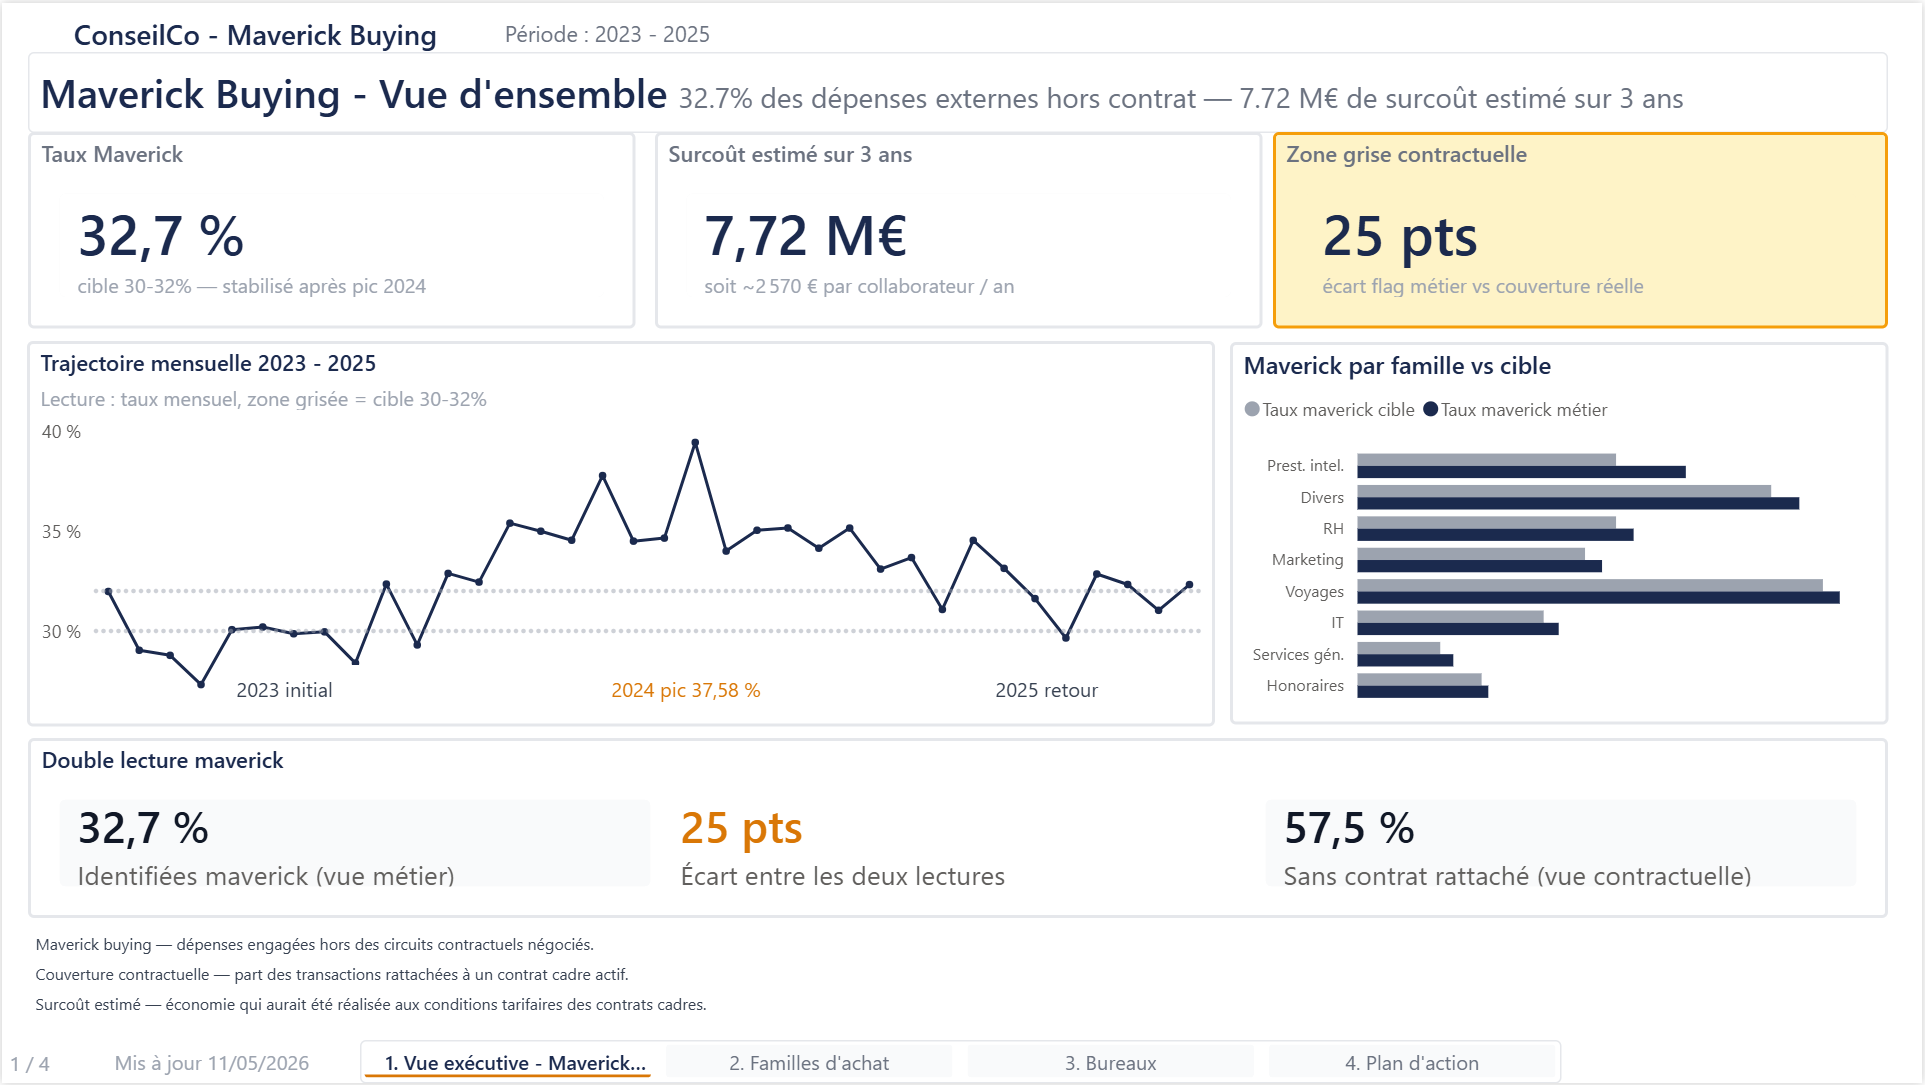

Layout of this report page (visuals, bound fields, positions):
{"tool":"powerbi","page":{"name":"1. Vue exécutive - Maverick Buying","canvas":[1280,720],"ordinal":0},"visuals":[{"type":"lineChart","title":"Trajectoire mensuelle 2023 - 2025","fields":{"Category":["Calendrier.Année-Mois"],"Y":["Mesures.Taux maverick métier"]},"box":[20,226.2,791.9,256.9],"z":0},{"type":"textbox","box":[20,0,303.8,42.5],"z":1000},{"type":"textbox","box":[323.5,0,160.7,42.9],"z":2000},{"type":"textbox","box":[0,690.8,69.5,29.6],"z":3000},{"type":"textbox","box":[70,695.3,156.5,24.7],"z":4000},{"type":"pageNavigator","box":[238.8,691.2,801.2,28.8],"z":5000},{"type":"textbox","box":[17.5,32.5,1240,53.8],"z":6000},{"type":"cardVisual","title":"Taux Maverick","fields":{"Data":["Mesures.Taux maverick métier"]},"box":[17.5,86.2,405,131.2],"z":7000},{"type":"cardVisual","title":"Surcoût estimé sur 3 ans ","fields":{"Data":["Mesures.Surcoût maverick estimé lib"]},"box":[435,86.2,405,131.2],"z":8000},{"type":"cardVisual","title":"Zone grise contractuelle","fields":{"Data":["Mesures.Zone grise pts (affichage)"]},"box":[847.5,86.2,410,131.2],"z":9000},{"type":"textbox","box":[151.2,441.2,92.5,30],"z":10000},{"type":"textbox","box":[401.2,441.2,120,30],"z":11000},{"type":"textbox","box":[657.5,441.2,95,30],"z":12000},{"type":"clusteredBarChart","title":"Maverick par famille vs cible","fields":{"Category":["Catégories.Famille libellé court"],"Y":["Mesures.Taux maverick cible","Mesures.Taux maverick métier"]},"box":[818.8,226.2,438.8,255],"z":13000},{"type":"cardVisual","title":"Double lecture maverick","fields":{"Data":["Mesures.Taux maverick métier","Mesures.Zone grise pts (affichage)","Mesures.Taux non-couverture contractuelle"]},"box":[17.5,490,1240,120],"z":14000},{"type":"textbox","box":[17.5,610,1240,72.5],"z":15000}]}

Visuals, with their boxes in screenshot pixels (x1, y1, x2, y2), scaled from the page's 1280x720 canvas onto the 1925x1085 screenshot:
"Trajectoire mensuelle 2023 - 2025" lineChart: 30 341 1221 728
textbox: 30 0 487 64
textbox: 487 0 728 65
textbox: 0 1041 105 1084
textbox: 105 1048 341 1084
pageNavigator: 359 1042 1564 1084
textbox: 26 49 1891 130
"Taux Maverick" cardVisual: 26 130 635 328
"Surcoût estimé sur 3 ans " cardVisual: 654 130 1263 328
"Zone grise contractuelle" cardVisual: 1275 130 1891 328
textbox: 227 665 367 710
textbox: 603 665 784 710
textbox: 989 665 1132 710
"Maverick par famille vs cible" clusteredBarChart: 1231 341 1891 725
"Double lecture maverick" cardVisual: 26 738 1891 919
textbox: 26 919 1891 1028
